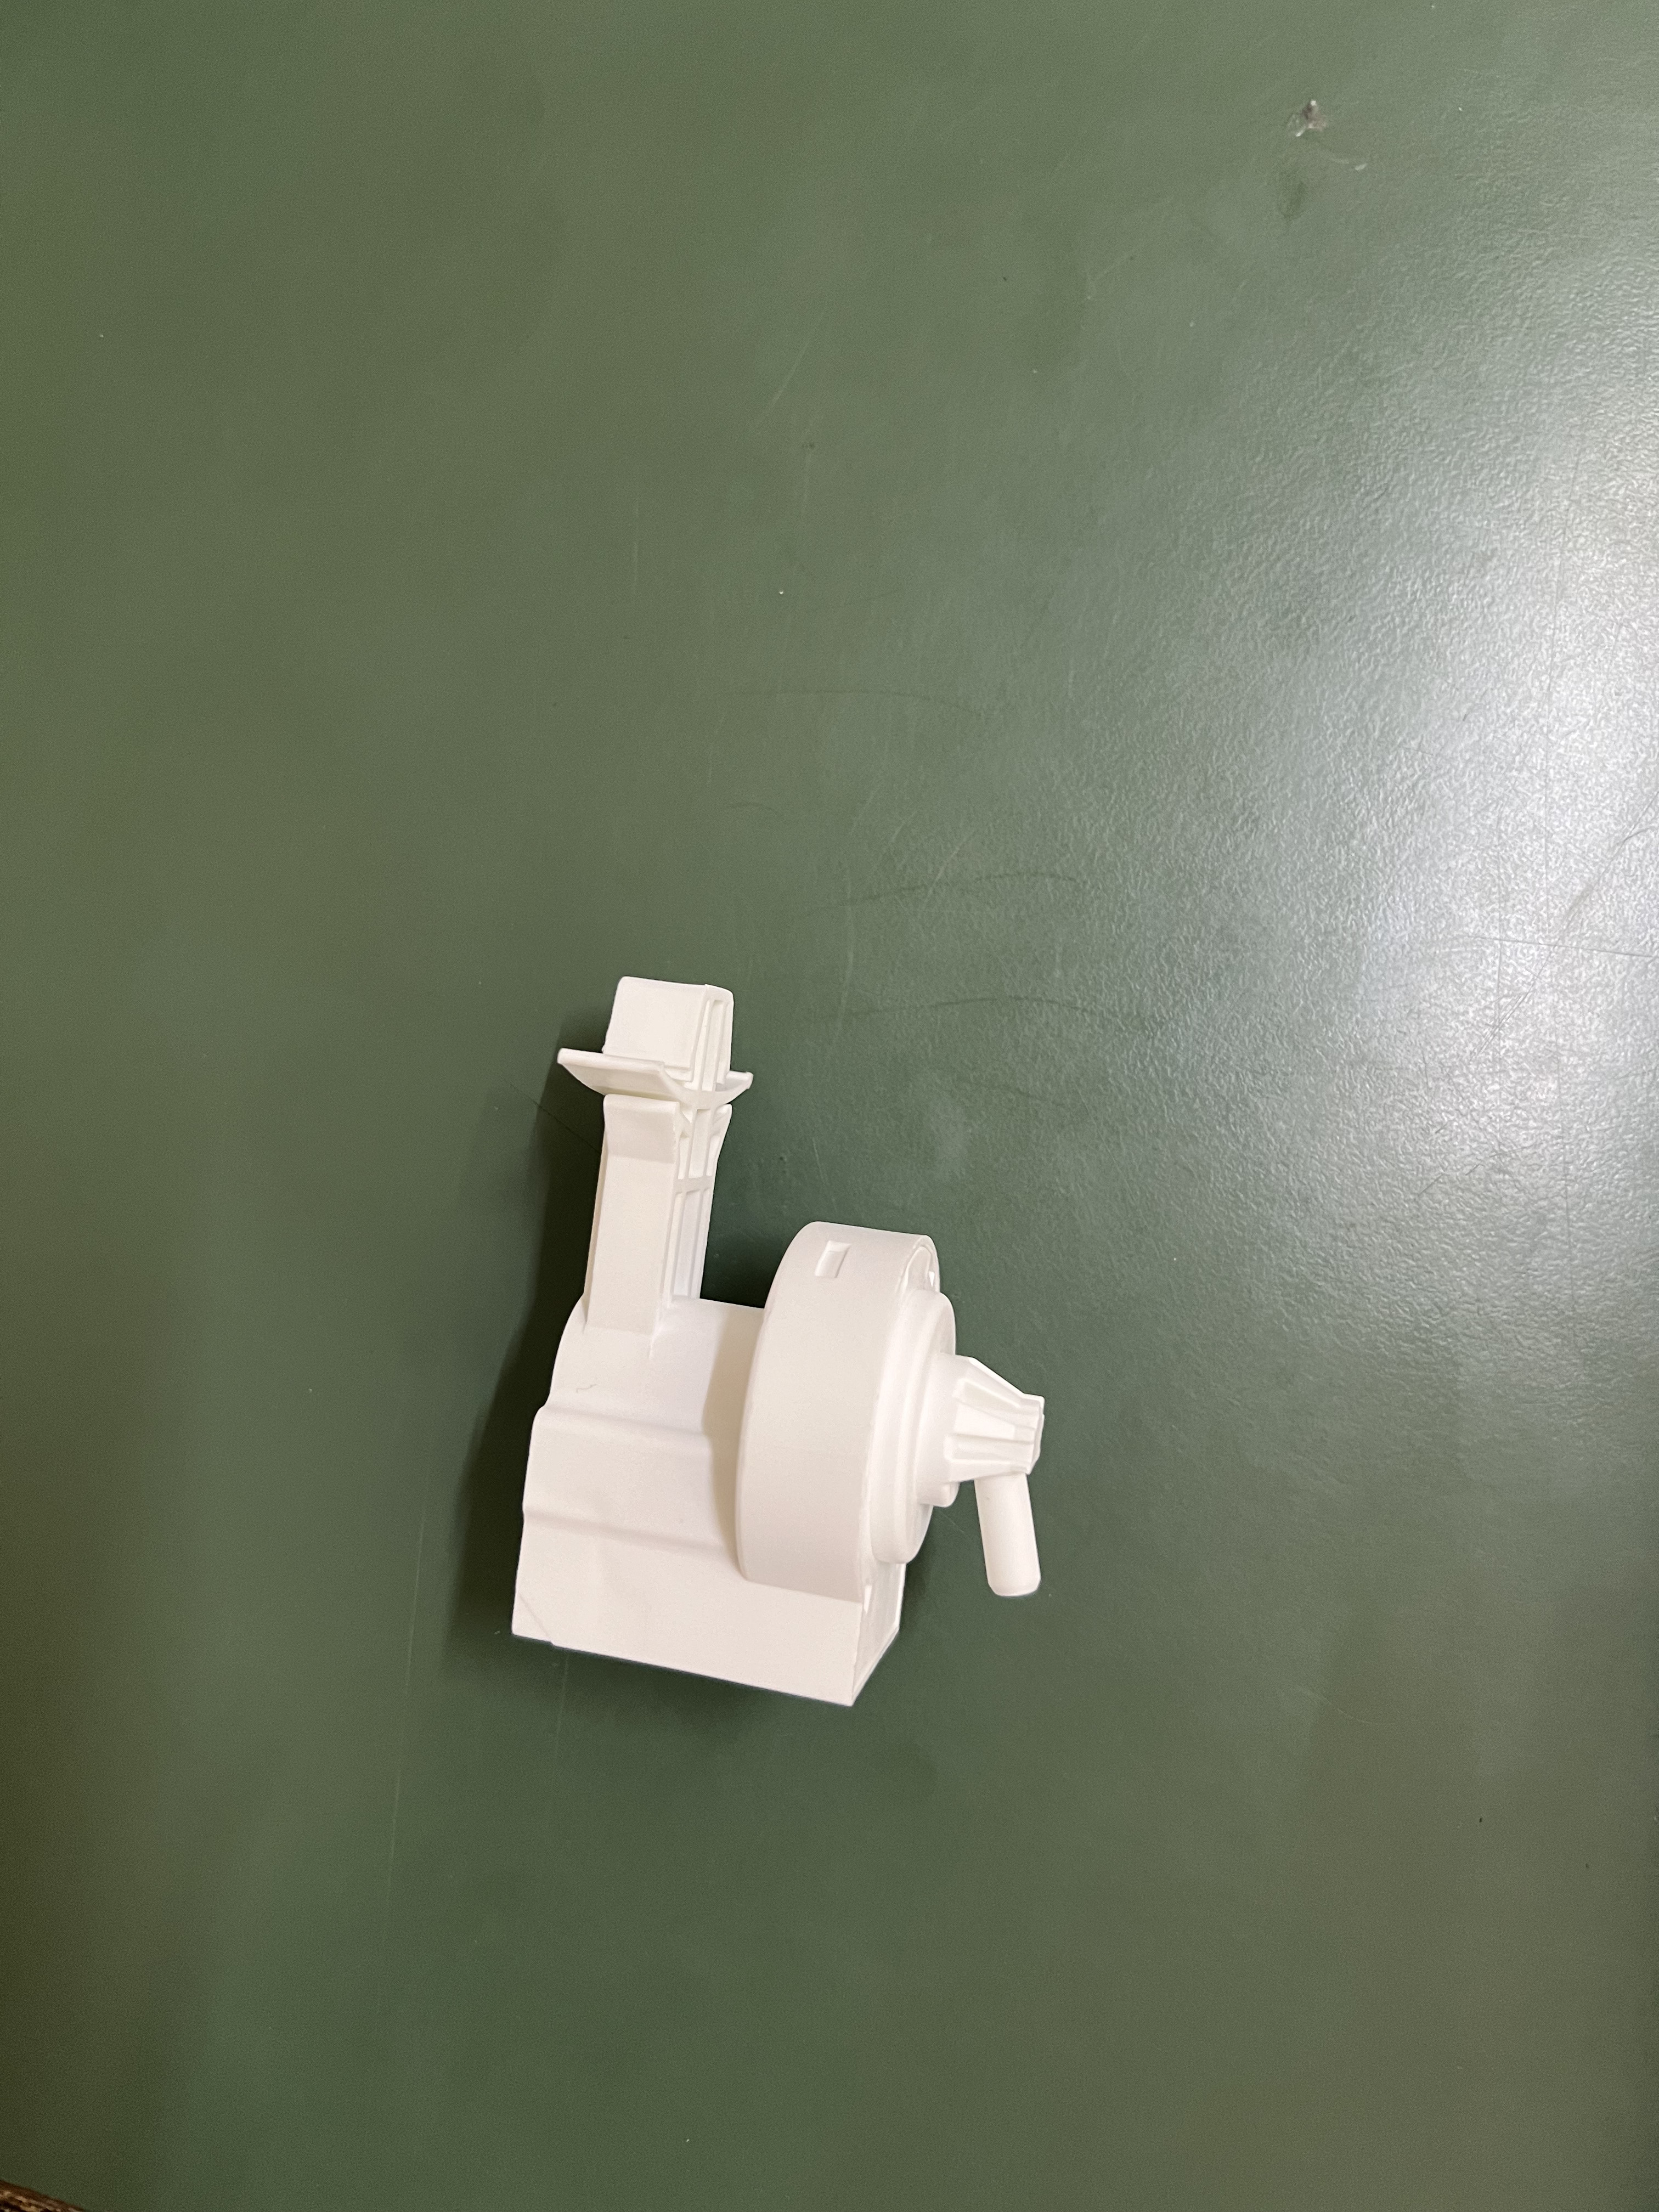pressure_switch_1: (441, 945, 1079, 1840)
